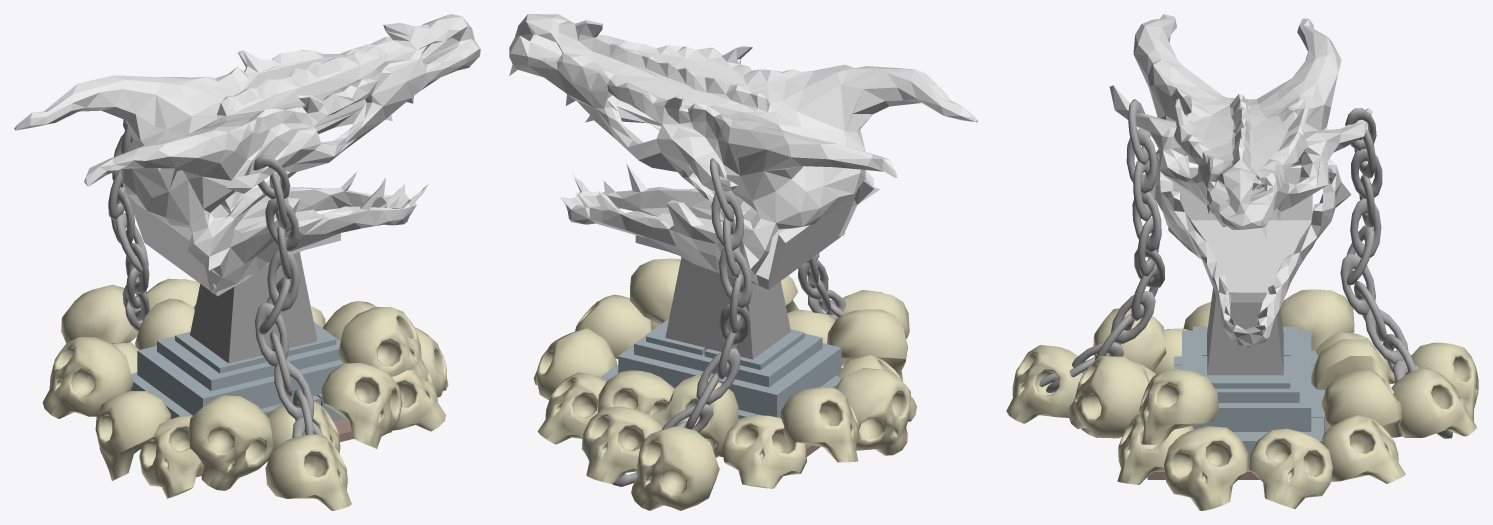
Rendered from DragonTombBox.fbx.
3 views of the same model, side by side, from view 1: azimuth 30°, elevation 25°; view 2: azimuth 150°, elevation 25°; view 3: azimuth 270°, elevation 25° (orthographic).
Parts seen in each view (by area): view 1: DragonSkullBox, model:Mesh, shiny_chain:Mesh, pCube1, pasted__bones.005, pasted__bones.007, pasted__bones.013, pasted__bones.004, pasted__bones.012, pasted__bones.006, Mesh, pasted__bones.001 (+7 smaller); view 2: DragonSkullBox, model:Mesh, Mesh, pCube1, pasted__bones.014, pasted__bones.001 (×2), pasted__bones.006, pasted__bones.007, pasted__bones.015, pasted__bones.005, pasted__bones.010, pasted__bones.002 (+7 smaller); view 3: DragonSkullBox, model:Mesh, Mesh, shiny_chain:Mesh, pasted__bones.011, pasted__bones.010, pasted__bones.004, pasted__bones.012, pCube1, pasted__bones.015, pasted__bones.002, pasted__bones.013 (+7 smaller).
Boxes of the visible parts, x1=… form: DragonSkullBox: x1=14, y1=14, x2=480, y2=296; model:Mesh: x1=131, y1=322, x2=353, y2=477; shiny_chain:Mesh: x1=253, y1=155, x2=323, y2=437; pCube1: x1=190, y1=252, x2=317, y2=363; pasted__bones.005: x1=188, y1=395, x2=273, y2=490; pasted__bones.007: x1=42, y1=337, x2=133, y2=418; pasted__bones.013: x1=265, y1=434, x2=351, y2=510; pasted__bones.004: x1=321, y1=362, x2=402, y2=448; pasted__bones.012: x1=338, y1=307, x2=428, y2=379; pasted__bones.006: x1=95, y1=391, x2=170, y2=480; Mesh: x1=108, y1=119, x2=150, y2=330; pasted__bones.001: x1=139, y1=415, x2=201, y2=498; DragonSkullBox: x1=509, y1=14, x2=977, y2=289; model:Mesh: x1=600, y1=318, x2=841, y2=456; Mesh: x1=612, y1=158, x2=752, y2=486; pCube1: x1=665, y1=257, x2=790, y2=359; pasted__bones.014: x1=631, y1=426, x2=719, y2=510; pasted__bones.001 (×2): x1=722, y1=355, x2=916, y2=488; pasted__bones.006: x1=835, y1=368, x2=910, y2=455; pasted__bones.007: x1=780, y1=387, x2=859, y2=462; pasted__bones.015: x1=581, y1=406, x2=661, y2=484; pasted__bones.005: x1=827, y1=309, x2=907, y2=380; pasted__bones.010: x1=533, y1=328, x2=616, y2=400; pasted__bones.002: x1=537, y1=372, x2=606, y2=444; DragonSkullBox: x1=1109, y1=14, x2=1372, y2=347; model:Mesh: x1=1147, y1=326, x2=1331, y2=479; Mesh: x1=1340, y1=108, x2=1452, y2=438; shiny_chain:Mesh: x1=1039, y1=99, x2=1164, y2=392; pasted__bones.011: x1=1164, y1=426, x2=1248, y2=510; pasted__bones.010: x1=1249, y1=428, x2=1332, y2=508; pasted__bones.004: x1=1068, y1=355, x2=1149, y2=438; pasted__bones.012: x1=1139, y1=369, x2=1218, y2=444; pCube1: x1=1207, y1=288, x2=1283, y2=375; pasted__bones.015: x1=1391, y1=367, x2=1476, y2=437; pasted__bones.002: x1=1322, y1=415, x2=1405, y2=483; pasted__bones.013: x1=1006, y1=345, x2=1082, y2=423.
Size of the model in its own units: 782 by 654 by 751.
